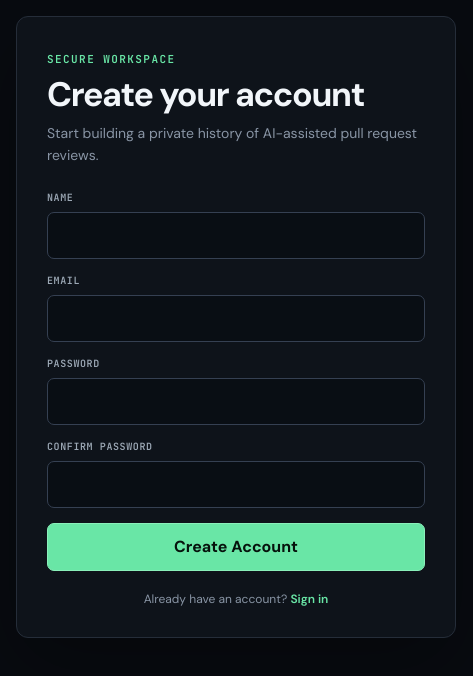
Test: AuthView validation › rejects mismatched registration passwords
Type "User" into the field labelled "Name" at coordinates (236, 235), box [47,212,425,259]
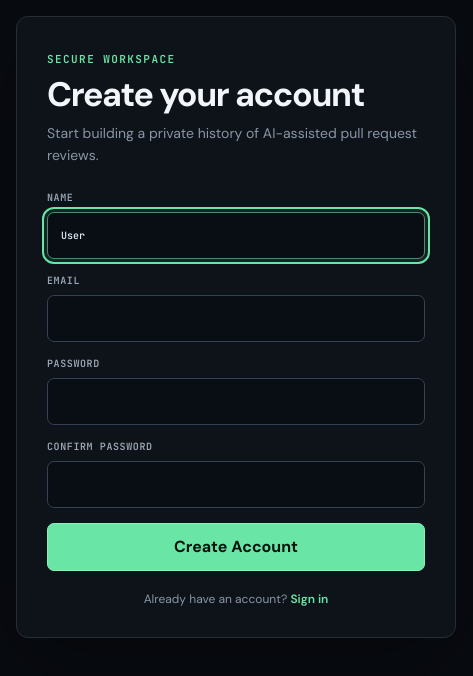
Type "user@example.com" into the field labelled "Email" at coordinates (236, 318), box [47,295,425,342]
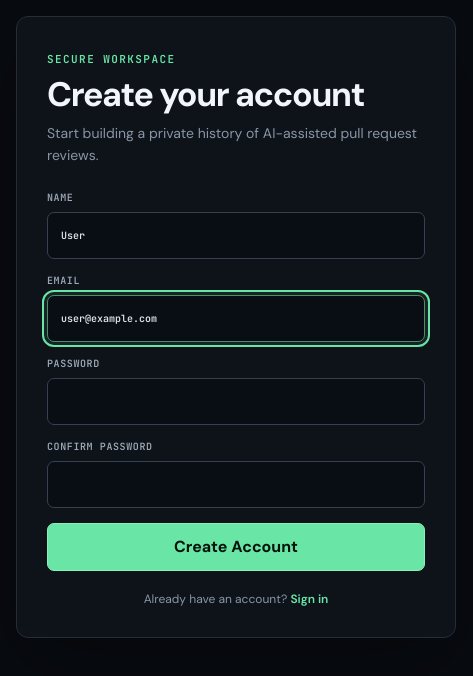
Type "password1" into the password field labelled "Password" at coordinates (236, 401), box [47,378,425,425]
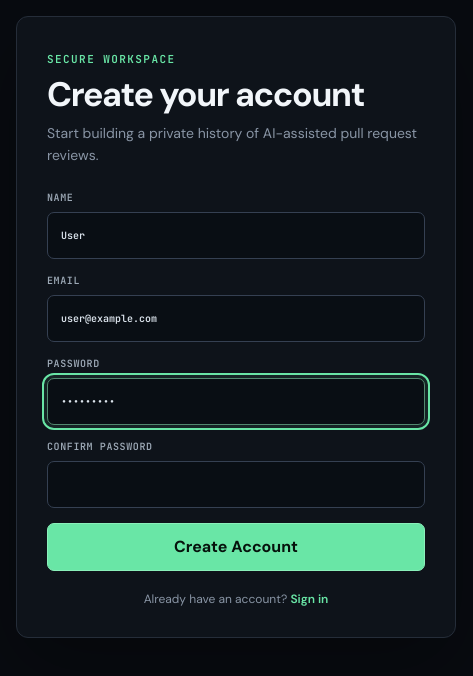
Type "password2" into the password field labelled "Confirm password" at coordinates (236, 484), box [47,461,425,508]
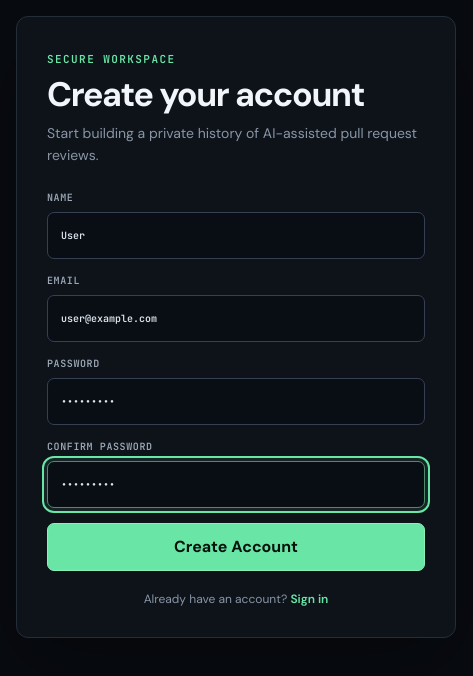
Click the button "Create Account" at coordinates (236, 547), box [47,523,425,571]
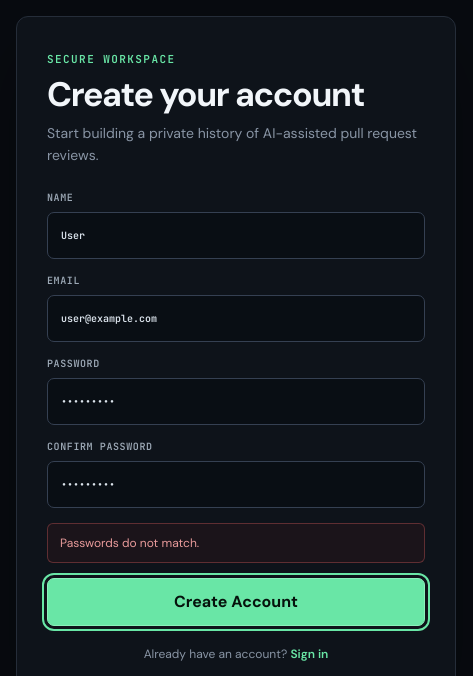
Result: the message reads "Passwords do not match." at [60,535,199,551]
